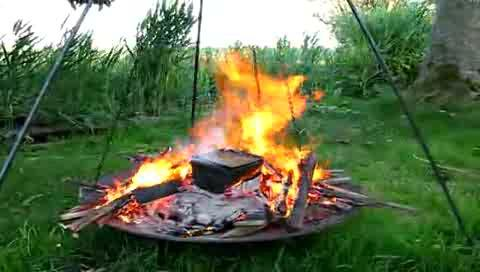fire: (220, 55, 316, 193), (122, 147, 190, 195)
